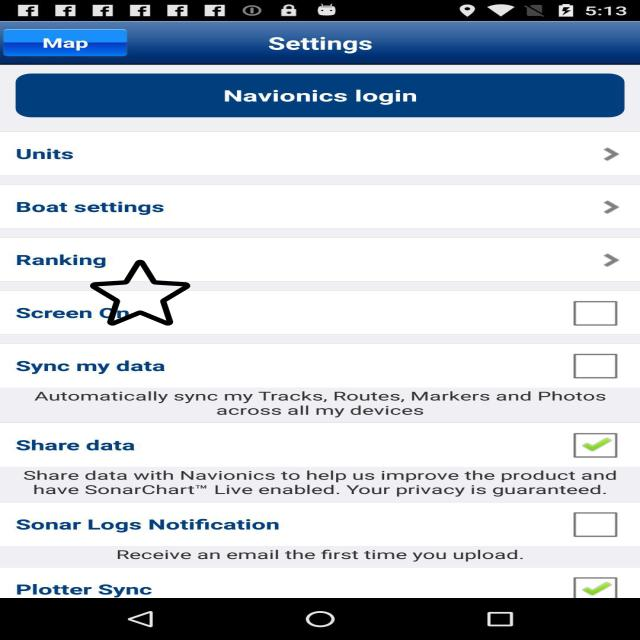forced continuity: (90, 258, 190, 327)
